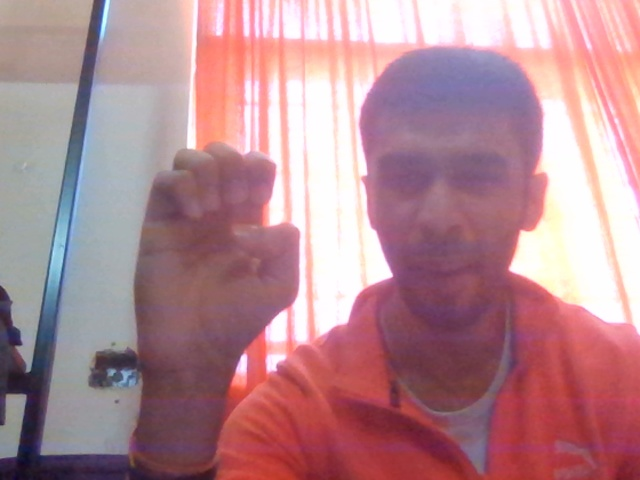E: (106, 131, 334, 445)
